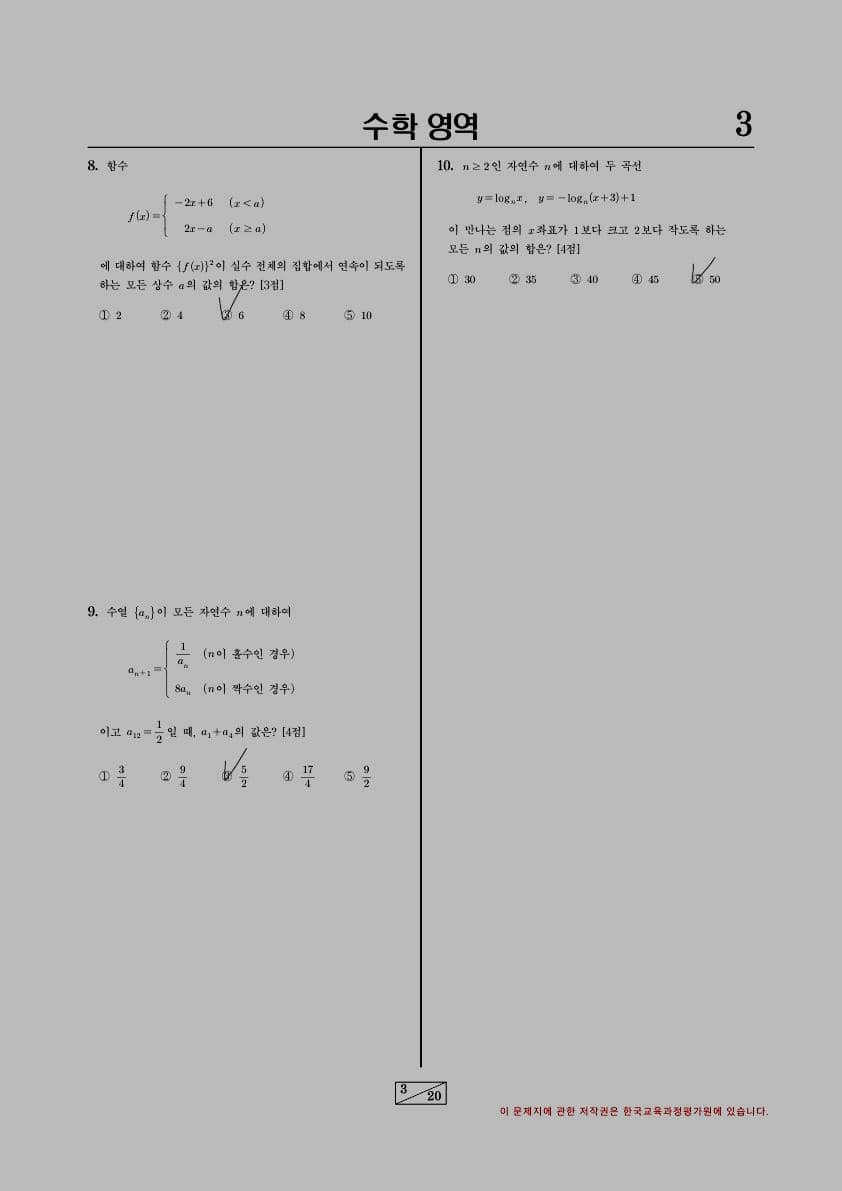question: (68, 594, 398, 805), (73, 147, 415, 339), (420, 148, 743, 305)
